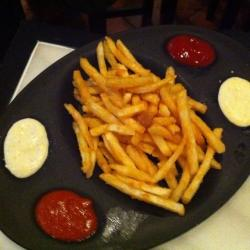fries: (74, 48, 222, 219)
ketchup: (31, 190, 100, 242), (162, 30, 218, 75)
